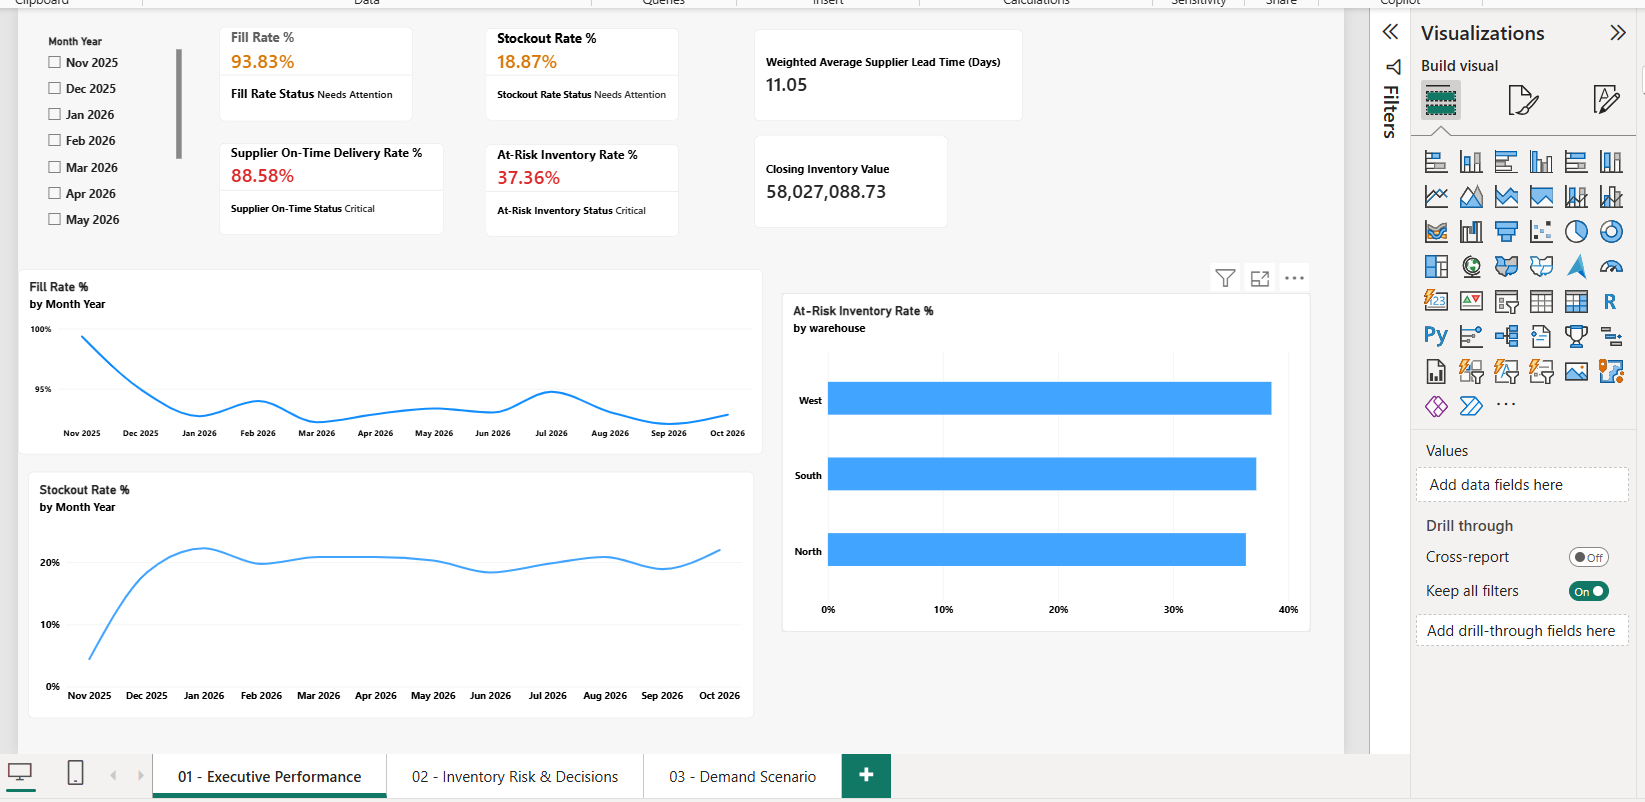

The dashboard page shown, as its layout file describes it:
{"tool":"powerbi","page":{"name":"01 - Executive Performance","canvas":[1920,1080],"ordinal":0},"visuals":[{"type":"slicer","fields":{"Values":["DimDate.Month Year"]},"box":[36.2,39.8,200.9,289.5],"z":0},{"type":"cardVisual","fields":{"Data":["supply_chain_ai_db inventory.Fill Rate %"]},"box":[291.4,27.1,280.5,137.5],"z":1000},{"type":"cardVisual","fields":{"Data":["supply_chain_ai_db inventory.Supplier On-Time Delivery Rate %"]},"box":[291.4,195.4,325.7,133.9],"z":2000},{"type":"cardVisual","fields":{"Data":["supply_chain_ai_db inventory.Weighted Average Supplier Lead Time (Days)"]},"box":[1066.5,31.4,389.1,133.9],"z":3000},{"type":"cardVisual","fields":{"Data":["supply_chain_ai_db inventory.Stockout Rate %"]},"box":[676,29,280.1,134.5],"z":4000},{"type":"cardVisual","fields":{"Data":["supply_chain_ai_db inventory.At-Risk Inventory Rate %"]},"box":[676.5,197.8,280.1,134.5],"z":5000},{"type":"cardVisual","fields":{"Data":["supply_chain_ai_db inventory.Closing Inventory Value"]},"box":[1066.5,184.8,280.1,134.5],"z":6000},{"type":"lineChart","fields":{"Category":["DimDate.Month Year"],"Y":["supply_chain_ai_db inventory.Fill Rate %"]},"box":[0,378.2,1078.6,267.8],"z":7000},{"type":"lineChart","fields":{"Category":["DimDate.Month Year"],"Y":["supply_chain_ai_db inventory.Stockout Rate %"]},"box":[14.5,671.4,1051.4,356.5],"z":8000},{"type":"clusteredBarChart","fields":{"Category":["supply_chain_ai_db inventory.warehouse"],"Y":["supply_chain_ai_db inventory.At-Risk Inventory Rate %"]},"box":[1105.7,412.6,765.5,490.4],"z":9000}]}

Visuals, with their boxes on the page's 1920x1080 design canvas (x1, y1, x2, y2). These are canvas units, not pixel positions in the 1645x802 screenshot, which may show the page scaled, cropped or inside an application window:
slicer - DimDate.Month Year: 36,40,237,329
cardVisual - supply_chain_ai_db inventory.Fill Rate %: 291,27,572,165
cardVisual - supply_chain_ai_db inventory.Supplier On-Time Delivery Rate %: 291,195,617,329
cardVisual - supply_chain_ai_db inventory.Weighted Average Supplier Lead Time (Days): 1066,31,1456,165
cardVisual - supply_chain_ai_db inventory.Stockout Rate %: 676,29,956,164
cardVisual - supply_chain_ai_db inventory.At-Risk Inventory Rate %: 676,198,957,332
cardVisual - supply_chain_ai_db inventory.Closing Inventory Value: 1066,185,1347,319
lineChart - DimDate.Month Year x supply_chain_ai_db inventory.Fill Rate %: 0,378,1079,646
lineChart - DimDate.Month Year x supply_chain_ai_db inventory.Stockout Rate %: 14,671,1066,1028
clusteredBarChart - supply_chain_ai_db inventory.warehouse x supply_chain_ai_db inventory.At-Risk Inventory Rate %: 1106,413,1871,903
